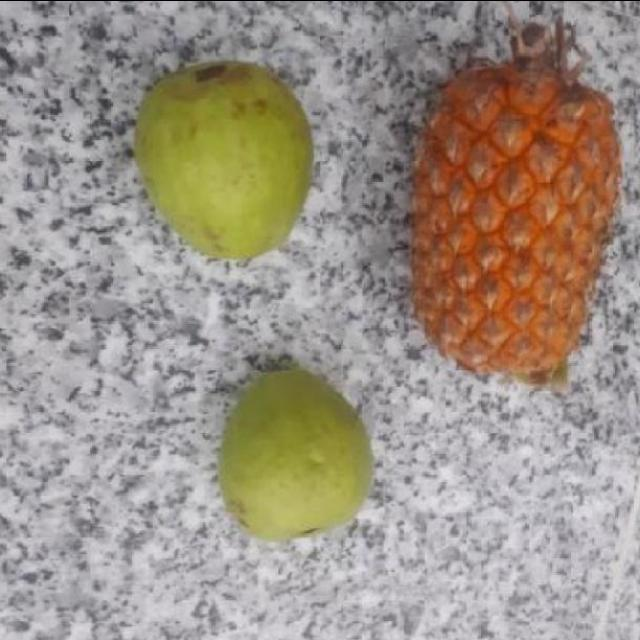guava: (138, 52, 314, 260), (219, 356, 369, 542)
pineapple: (402, 47, 624, 388)
